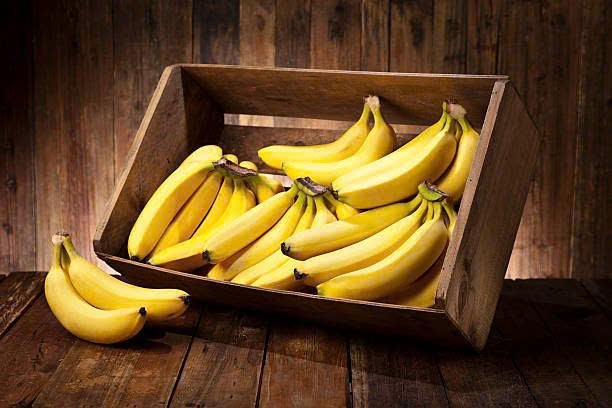banana: (261, 170, 450, 300), (45, 222, 204, 360), (169, 138, 267, 273), (329, 116, 475, 202), (305, 93, 386, 189)
